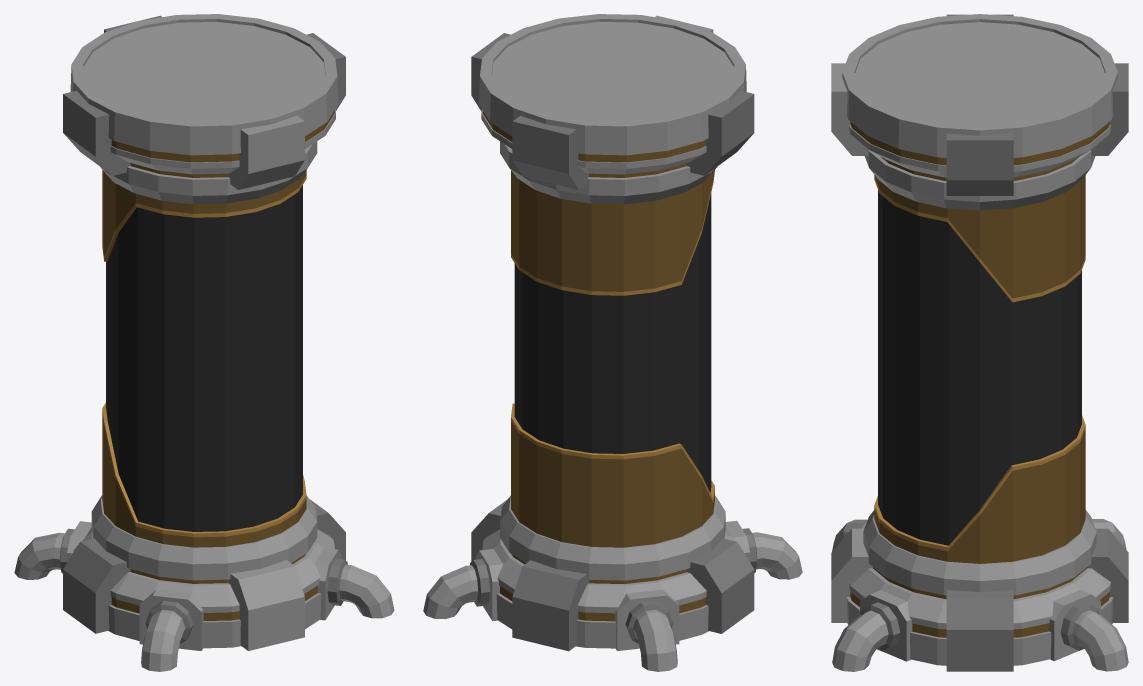
File: Props_Pod.glb
3 views of the same model, side by side, from view 1: azimuth 30°, elevation 25°; view 2: azimuth 150°, elevation 25°; view 3: azimuth 270°, elevation 25° (orthographic). The views are drawn at different scales.
Visible parts, largest first — view 1: Accent; view 2: Accent; view 3: Accent.
Part boxes in pixels (left/top/right/bottom): Accent: left=14, top=14, right=394, bottom=671; Accent: left=423, top=14, right=802, bottom=671; Accent: left=831, top=14, right=1128, bottom=671.
Bounding box in the file's own units: 1.81 × 3.61 × 1.81.
Materials: 1 (1 with a texture image).
